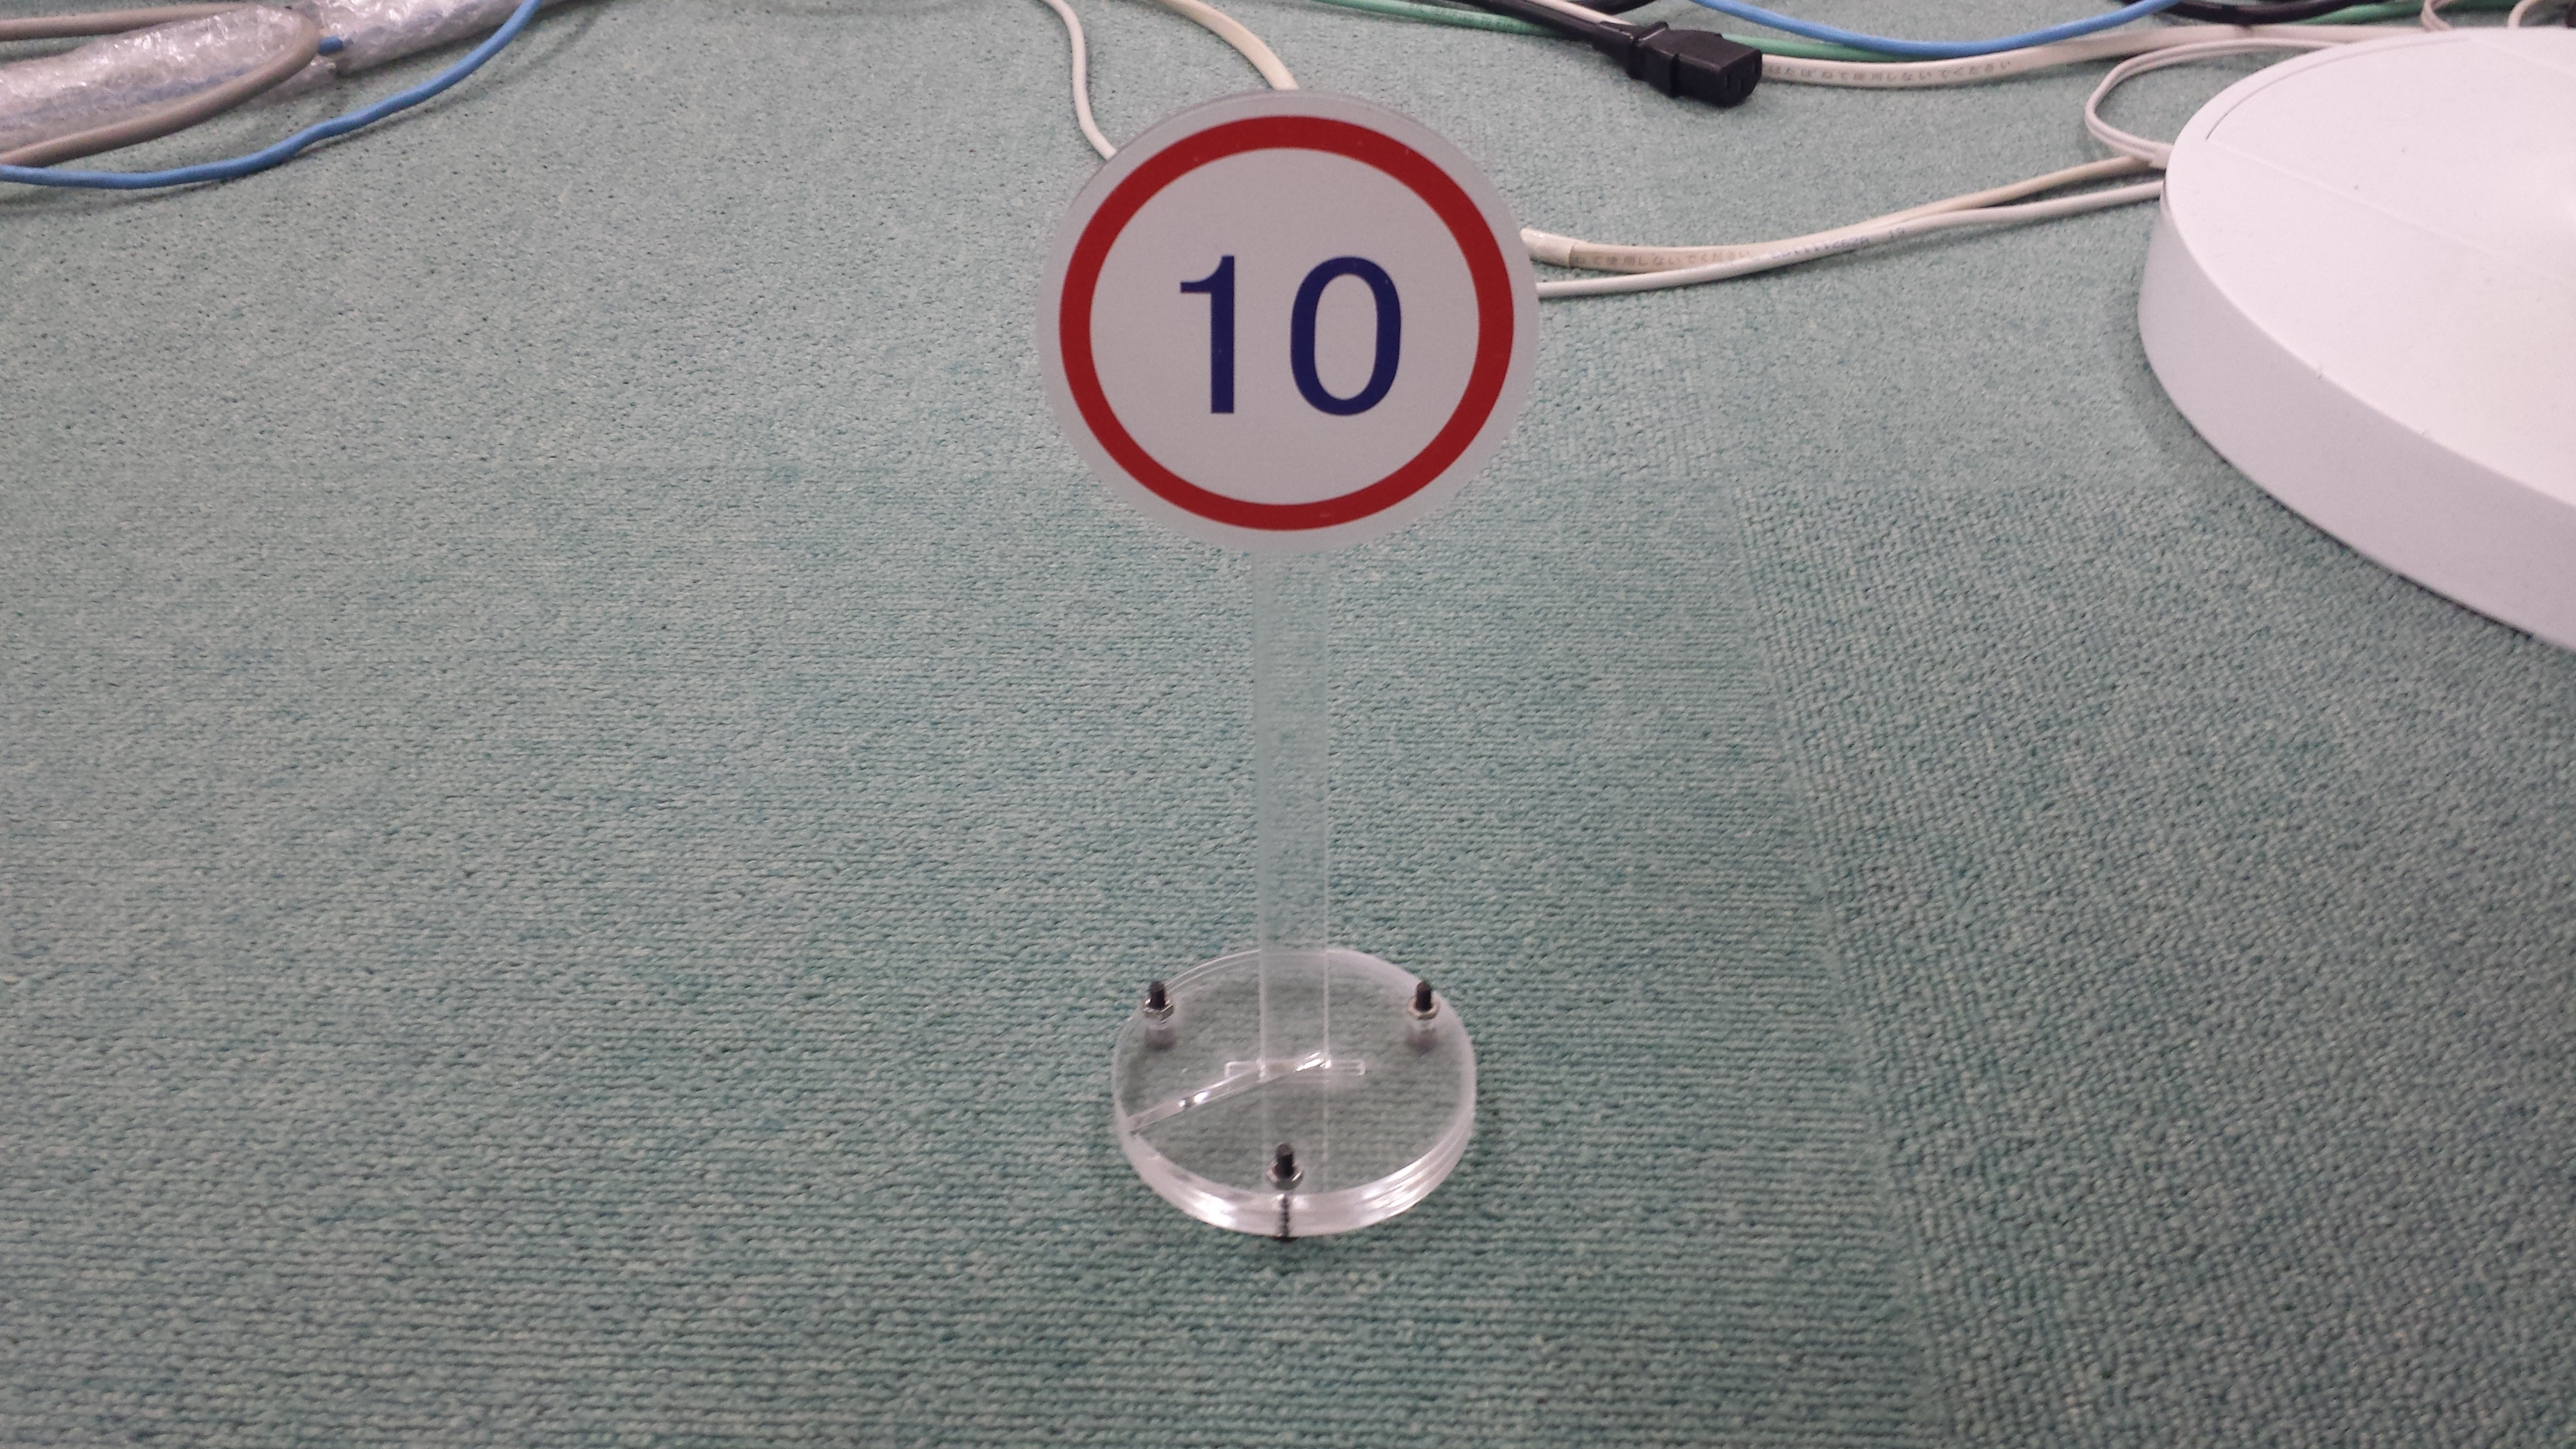speed_10: (1037, 94, 1530, 548)
